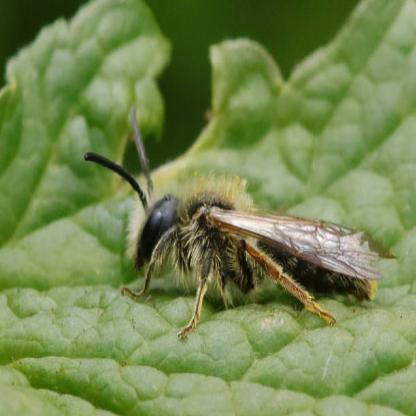sawfly: (84, 101, 388, 333)
